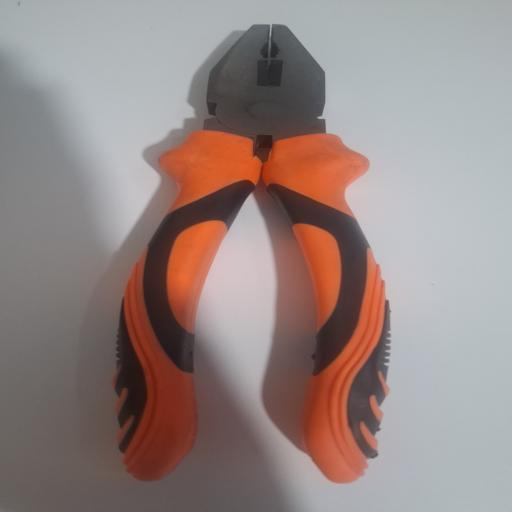alicate: (106, 24, 392, 484)
